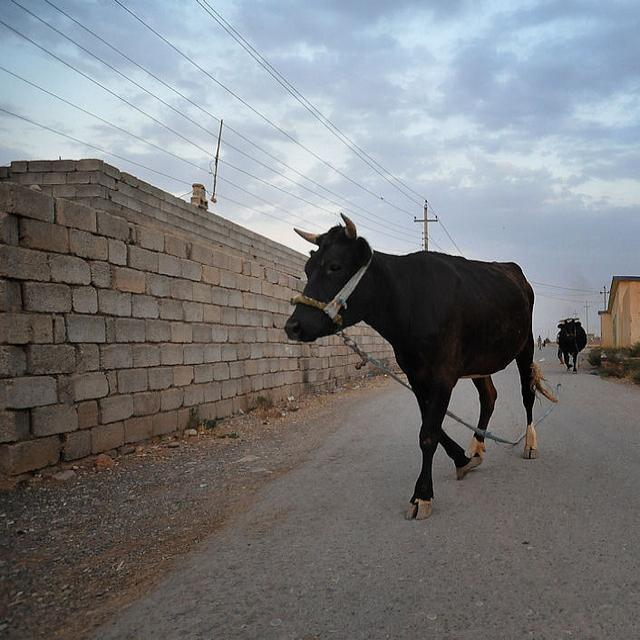cow: (555, 317, 586, 372)
